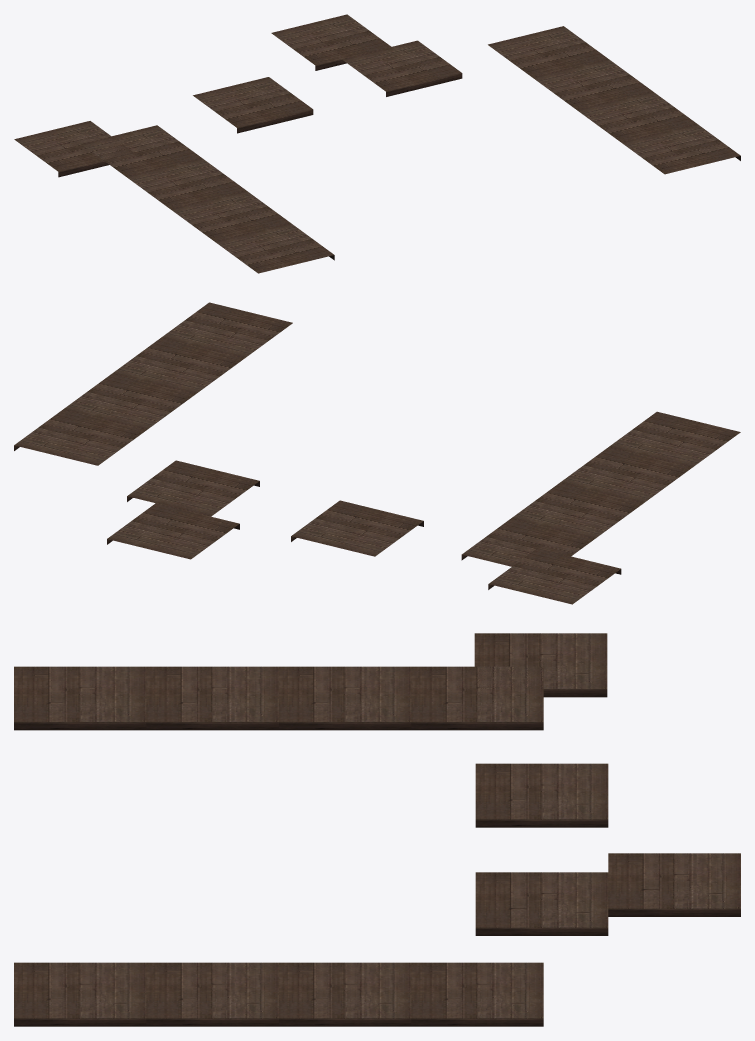
File: fb_jianhugong_mudiban02.FBX
3 renders of one model, top to bottom at view 1: azimuth 30°, elevation 25°; view 2: azimuth 150°, elevation 25°; view 3: azimuth 270°, elevation 25°, orthographic. The views are drawn at different scales.
Visible parts, largest first — view 1: fb_jianhugong_mudiban02; view 2: fb_jianhugong_mudiban02; view 3: fb_jianhugong_mudiban02.
Boxes of the visible parts, x1=… form: fb_jianhugong_mudiban02: x1=14, y1=14, x2=740, y2=273; fb_jianhugong_mudiban02: x1=14, y1=302, x2=740, y2=604; fb_jianhugong_mudiban02: x1=14, y1=633, x2=740, y2=1026.
Size of the model in its own units: 3431 by 34.63 by 2737.
